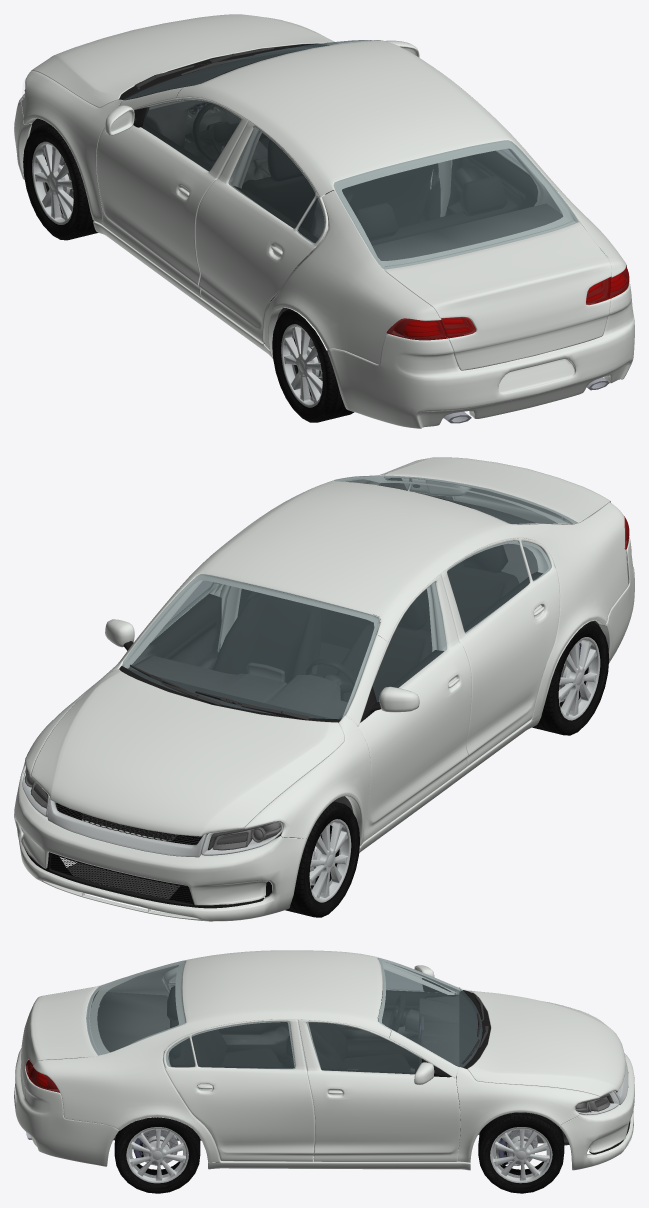
Rendered from cabek-vehicle.glb.
The picture shows the model from 3 angles, top to bottom: view 1: azimuth 30°, elevation 25°; view 2: azimuth 150°, elevation 25°; view 3: azimuth 270°, elevation 25°; orthographic projection. The views are drawn at different scales.
Parts seen in each view (by area): view 1: CABEK sedan body, wheel_fl rolling assembly, wheel_rl rolling assembly; view 2: CABEK sedan body, wheel_fl rolling assembly, wheel_rl rolling assembly; view 3: CABEK sedan body, wheel_fr rolling assembly, wheel_rr rolling assembly.
Part boxes in pixels (x1,y1,x2,y2): CABEK sedan body: [14, 14, 634, 428]; wheel_fl rolling assembly: [23, 124, 98, 240]; wheel_rl rolling assembly: [272, 309, 354, 422]; CABEK sedan body: [14, 457, 634, 921]; wheel_fl rolling assembly: [285, 801, 359, 917]; wheel_rl rolling assembly: [532, 621, 609, 735]; CABEK sedan body: [14, 950, 634, 1170]; wheel_fr rolling assembly: [478, 1112, 564, 1193]; wheel_rr rolling assembly: [114, 1117, 200, 1193].
Bounding box in the file's own units: 2.03 × 1.44 × 4.8.
23 materials, 10 textured.
